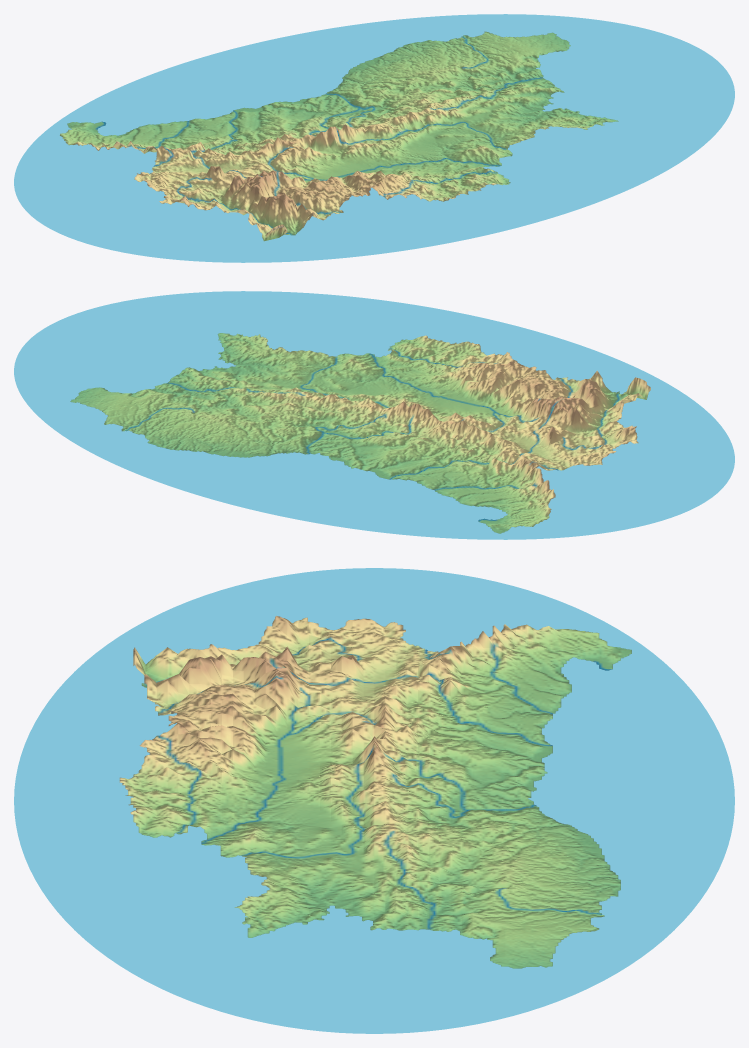
Rendered from BGR-terrain.glb.
3 renders of one model, top to bottom at view 1: azimuth 30°, elevation 25°; view 2: azimuth 150°, elevation 25°; view 3: azimuth 270°, elevation 25°, orthographic. The views are drawn at different scales.
Parts seen in each view (by area): view 1: Relevo com hidrografia; view 2: Relevo com hidrografia; view 3: Relevo com hidrografia.
Boxes of the visible parts, <box> form: Relevo com hidrografia: <box>14,14,734,262</box>; Relevo com hidrografia: <box>14,291,734,539</box>; Relevo com hidrografia: <box>14,568,734,1033</box>.
Bounding box in the file's own units: 2.24 × 0.088 × 1.46.
2 materials, 1 textured.
